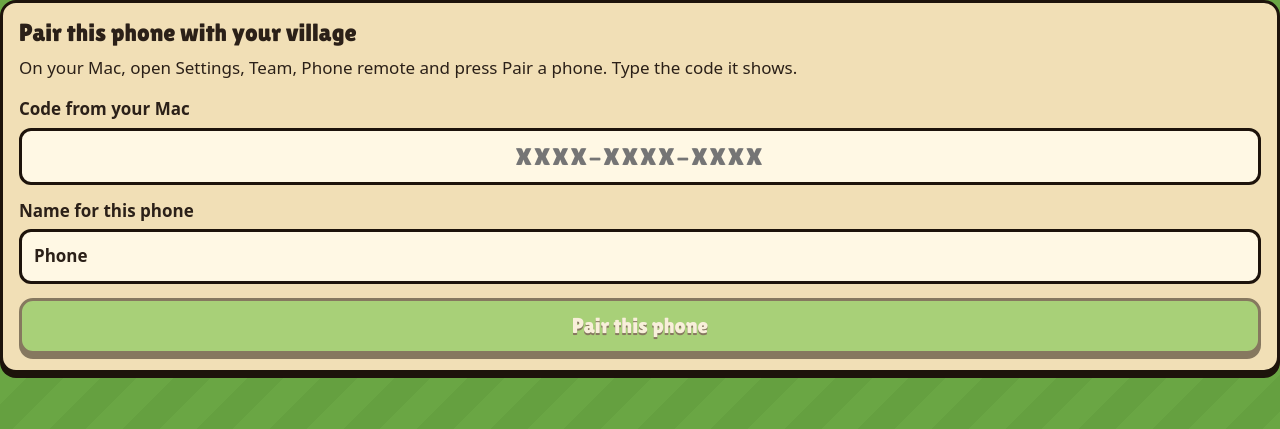
Test: a wrong code says so and lets you try again
In the field labelled "Code from your Mac": (640, 156) [19,128,1261,184], type "000000000000"
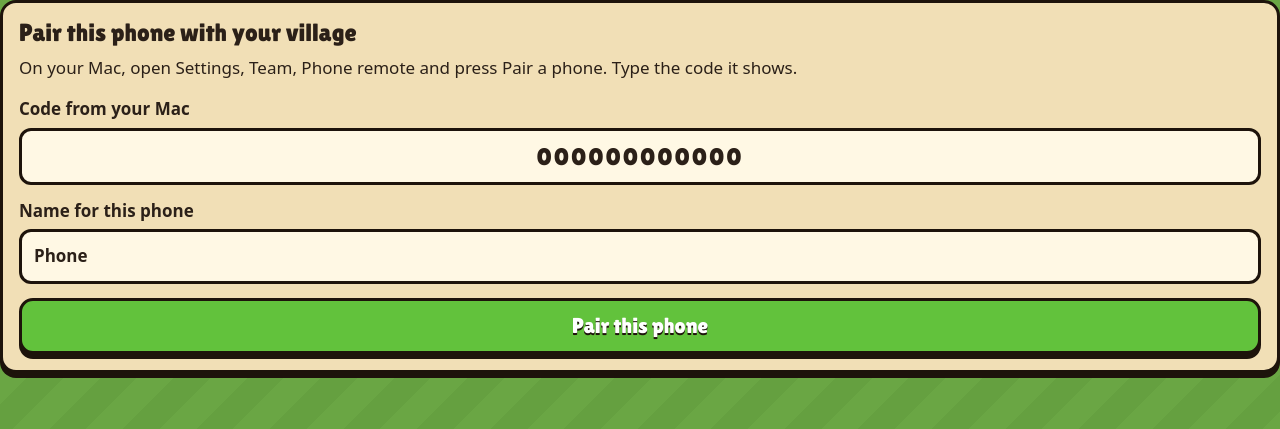
Click the button "Pair this phone": (640, 326) [19,298,1261,354]
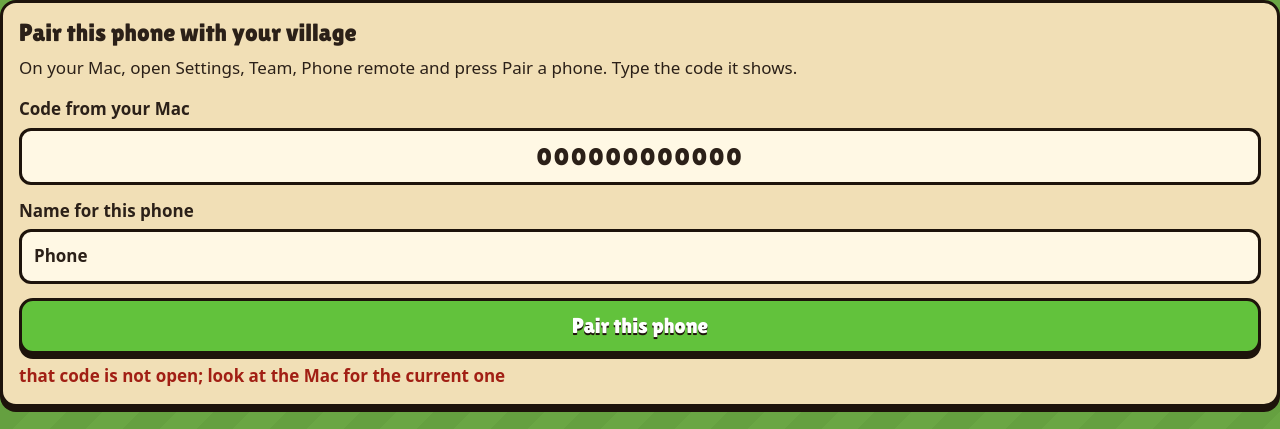
Expected: the text "that code is not open; look at the Mac for the current one" is shown, [19,364,505,387]
